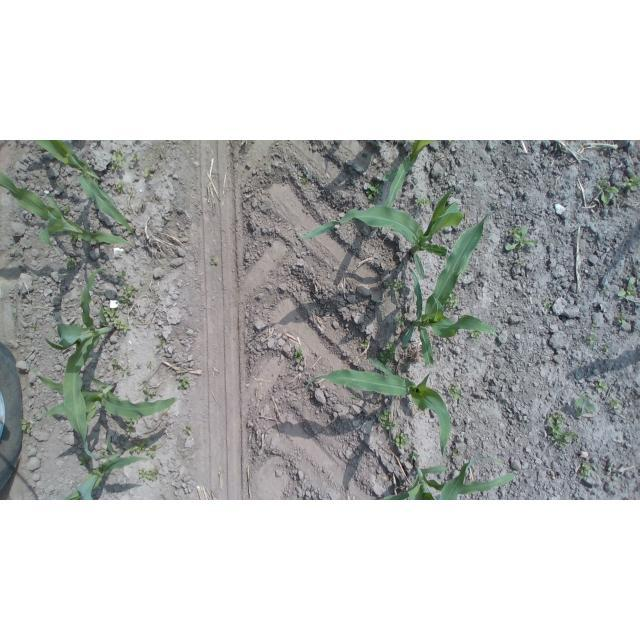Maize: (296, 186, 465, 279), (401, 210, 500, 366), (303, 356, 452, 456), (45, 265, 115, 459), (1, 171, 136, 256), (35, 140, 138, 236), (28, 363, 176, 425), (63, 434, 149, 500), (370, 465, 514, 500), (382, 141, 436, 210), (415, 457, 499, 500)
Weeds: (548, 412, 579, 448), (505, 226, 539, 250), (597, 176, 620, 207), (575, 395, 596, 416), (617, 278, 636, 301), (377, 408, 395, 430), (380, 341, 397, 364), (366, 182, 382, 203), (125, 440, 150, 453), (111, 148, 126, 169), (114, 317, 131, 334), (444, 292, 460, 310), (624, 174, 640, 191), (138, 468, 158, 481), (394, 433, 410, 449), (447, 384, 462, 401), (580, 461, 593, 479), (386, 278, 405, 290), (124, 417, 136, 435), (594, 378, 608, 393), (103, 307, 116, 322), (414, 197, 431, 208), (20, 419, 32, 434), (118, 296, 131, 309), (143, 386, 156, 399), (123, 284, 137, 296), (294, 348, 304, 364), (178, 376, 190, 389), (66, 256, 77, 270), (394, 314, 406, 326), (541, 299, 553, 310), (116, 181, 127, 193), (609, 399, 622, 409), (588, 331, 597, 345), (143, 166, 153, 178), (470, 329, 482, 339), (131, 152, 140, 165), (110, 359, 120, 370), (79, 456, 90, 466), (298, 174, 308, 185), (148, 445, 157, 457), (458, 269, 469, 278), (70, 233, 82, 241), (116, 270, 126, 279), (99, 449, 110, 457), (618, 315, 627, 324), (121, 365, 131, 373), (185, 424, 192, 435), (156, 338, 164, 347), (62, 205, 70, 214), (412, 452, 420, 461), (210, 257, 218, 265), (361, 339, 369, 347), (453, 449, 460, 457), (146, 361, 153, 368), (591, 321, 598, 328), (402, 360, 408, 366), (603, 346, 609, 352), (519, 261, 526, 266), (61, 183, 68, 188), (349, 394, 356, 399), (493, 200, 499, 205), (603, 287, 609, 292), (448, 141, 457, 144), (32, 324, 36, 328), (142, 381, 147, 384), (162, 221, 166, 224), (161, 498, 164, 500), (96, 141, 100, 142)
